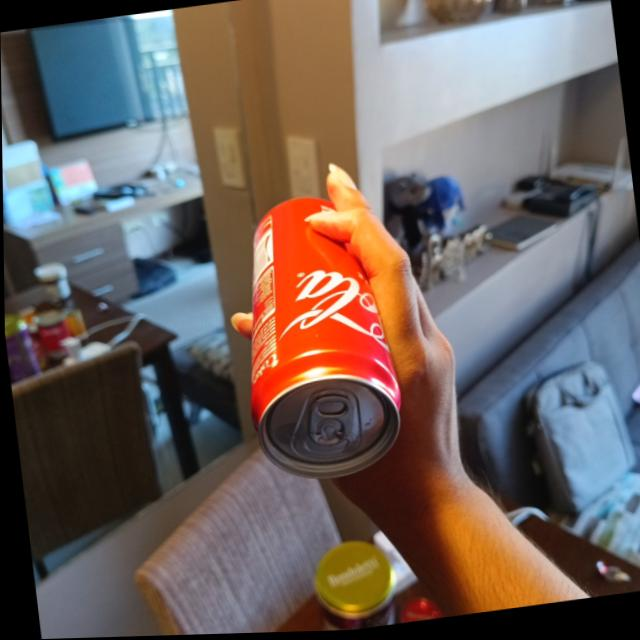coke: (225, 189, 406, 487)
